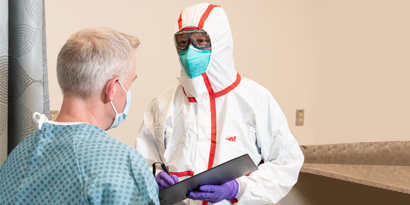Coverall: (137, 3, 305, 204)
Gloves: (188, 180, 239, 203), (156, 171, 179, 188)
Goggles: (173, 29, 212, 50)
with_mask: (108, 84, 133, 130), (179, 45, 210, 79)
